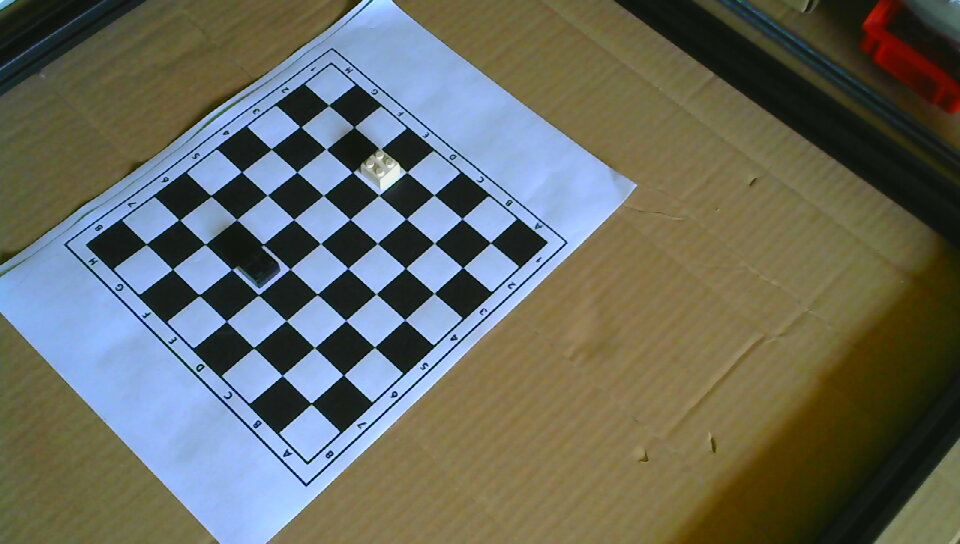bp: (237, 244, 281, 289)
wp: (359, 145, 403, 191)
